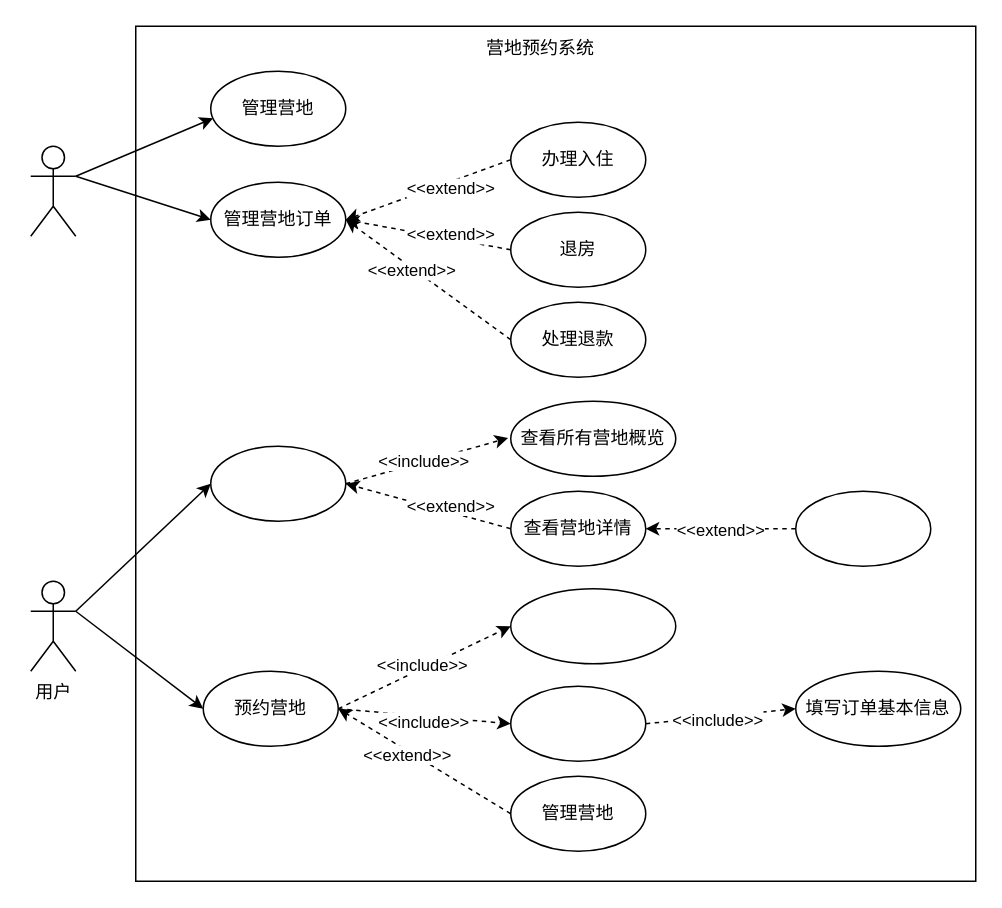
The diagram is 1002 pixels wide and 908 high, and some of its shapes have lost their labels. Here are the shapes that lost their labels. From the top down, the box of each, then its label:
(29, 145, 76, 236): 管理员
(209, 445, 346, 521): 浏览营地
(794, 490, 931, 566): 收藏营地
(509, 587, 676, 664): 选择预约营地的 时间段和营位
(509, 685, 646, 761): 创建订单
